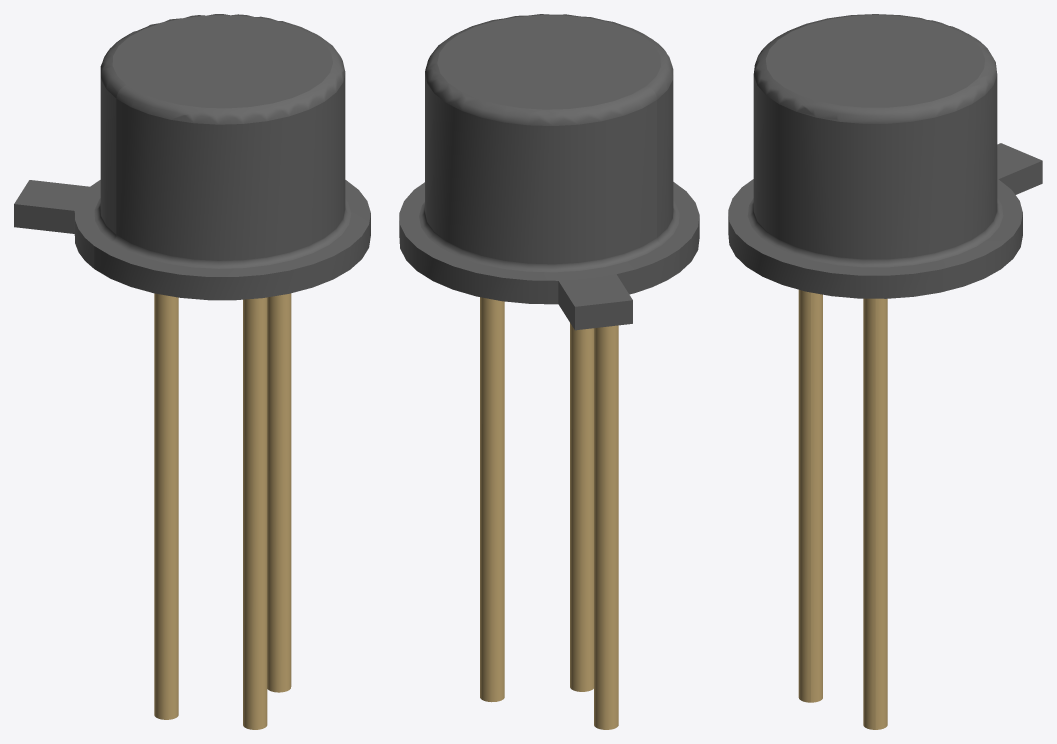
3 views of the same model, side by side, from view 1: azimuth 30°, elevation 25°; view 2: azimuth 150°, elevation 25°; view 3: azimuth 270°, elevation 25° (orthographic).
Parts seen in each view (by area): view 1: 0.16666666666666666_0.16666666666666666_0.16666666666666666_, 0.75_0.5_0.25_0.9; view 2: 0.16666666666666666_0.16666666666666666_0.16666666666666666_, 0.75_0.5_0.25_0.9; view 3: 0.16666666666666666_0.16666666666666666_0.16666666666666666_, 0.75_0.5_0.25_0.9.
Boxes of the visible parts, x1=… form: 0.16666666666666666_0.16666666666666666_0.16666666666666666_: x1=14, y1=14, x2=370, y2=300; 0.75_0.5_0.25_0.9: x1=154, y1=293, x2=291, y2=729; 0.16666666666666666_0.16666666666666666_0.16666666666666666_: x1=399, y1=14, x2=699, y2=330; 0.75_0.5_0.25_0.9: x1=480, y1=297, x2=618, y2=729; 0.16666666666666666_0.16666666666666666_0.16666666666666666_: x1=728, y1=14, x2=1042, y2=298; 0.75_0.5_0.25_0.9: x1=798, y1=290, x2=887, y2=729.
Size of the model in its own units: 0.618 by 1.38 by 0.6183.
